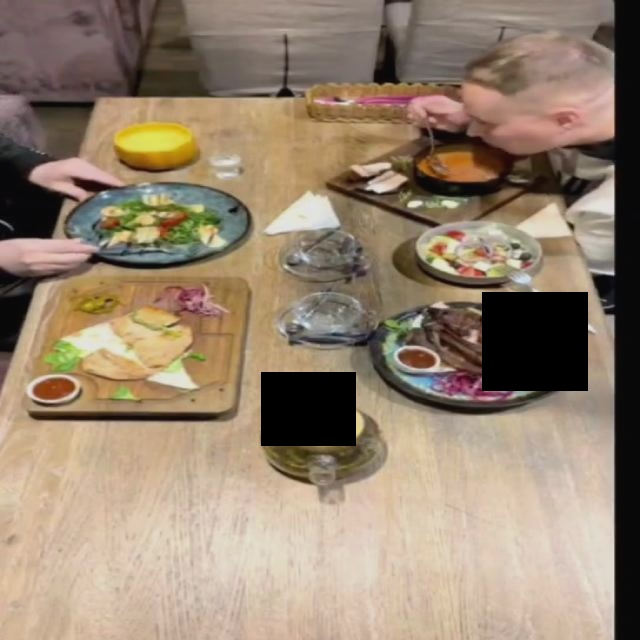meat: (26, 278, 251, 424), (364, 300, 575, 407)
salad: (60, 181, 248, 265), (414, 219, 544, 284)
soup: (322, 132, 552, 227), (112, 121, 198, 170)
tea: (242, 371, 404, 501)
